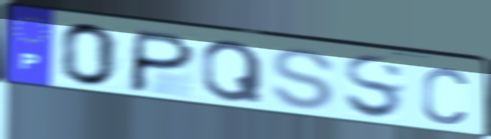0: (56, 22, 126, 89)
C: (419, 64, 471, 126)
P: (124, 28, 199, 96)
Q: (199, 39, 265, 106)
S: (269, 46, 338, 112), (342, 53, 406, 122)
